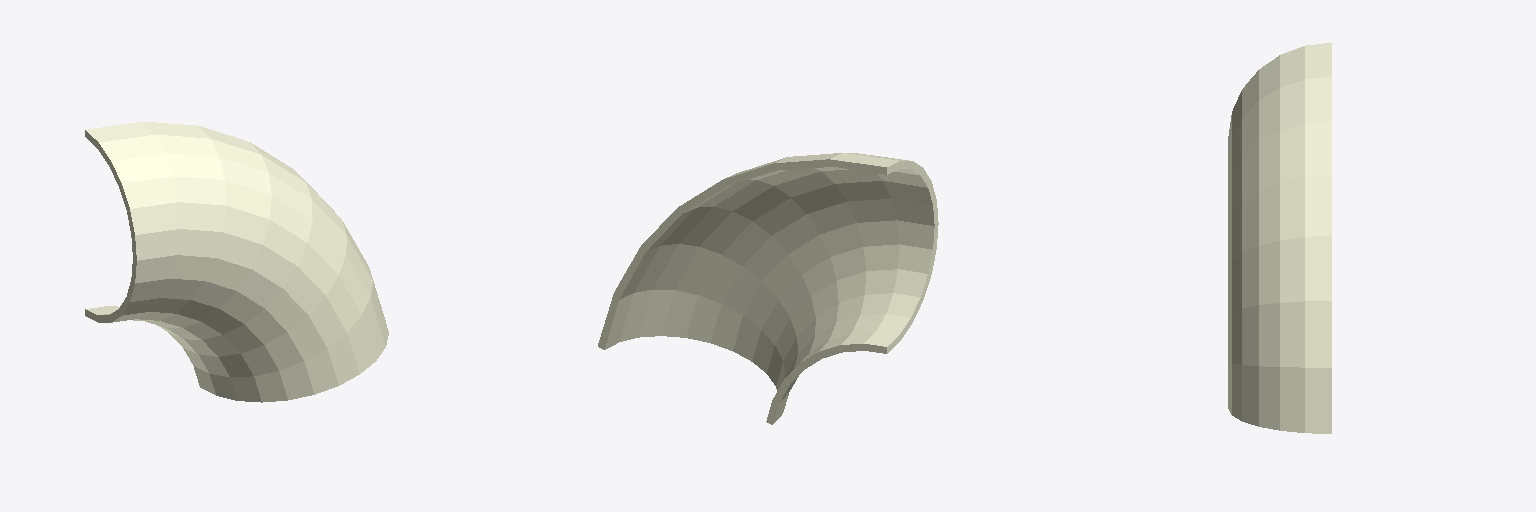
The model's file is section_027.obj.
3 renders of one model, left to right at view 1: azimuth 30°, elevation 25°; view 2: azimuth 150°, elevation 25°; view 3: azimuth 270°, elevation 25°, orthographic.
Bounding box in the file's own units: 42.22 × 39.78 × 13.